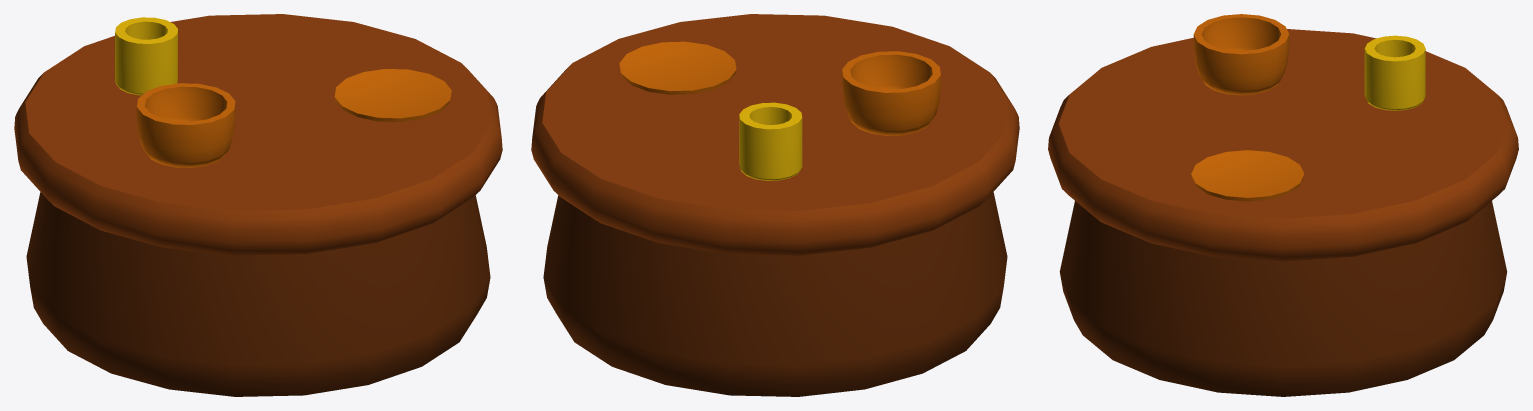
The model's file is Table.fbx.
3 renders of one model, left to right at view 1: azimuth 30°, elevation 25°; view 2: azimuth 150°, elevation 25°; view 3: azimuth 270°, elevation 25°, orthographic. The views are drawn at different scales.
Visible parts, largest first — view 1: pCylinder7; view 2: pCylinder7; view 3: pCylinder7.
Boxes of the visible parts, bbox=[...] form: pCylinder7: bbox=[14, 14, 502, 396]; pCylinder7: bbox=[531, 14, 1019, 396]; pCylinder7: bbox=[1048, 14, 1518, 396].
Size of the model in its own units: 4.33 by 2.38 by 4.33.
1 material, 1 textured.
